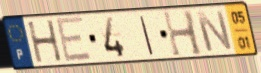4: (103, 16, 127, 60)
E: (54, 15, 94, 65)
H: (161, 9, 205, 59), (25, 18, 65, 65)
I: (138, 14, 156, 56)
N: (194, 9, 236, 54)
